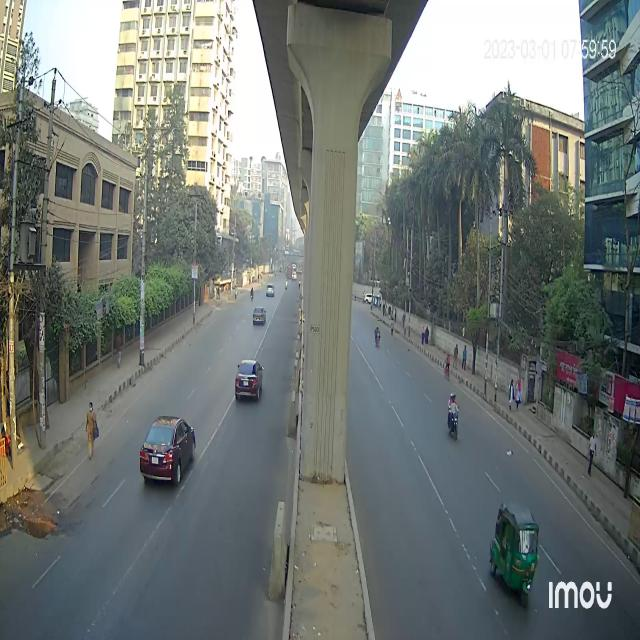cng: (491, 485, 539, 607)
